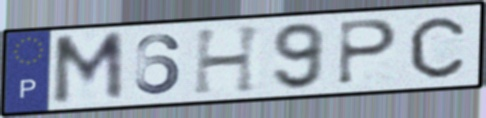6: (134, 32, 183, 97)
9: (269, 20, 327, 91)
C: (406, 15, 468, 81)
H: (191, 22, 267, 97)
M: (50, 29, 127, 108)
P: (334, 17, 401, 87)
